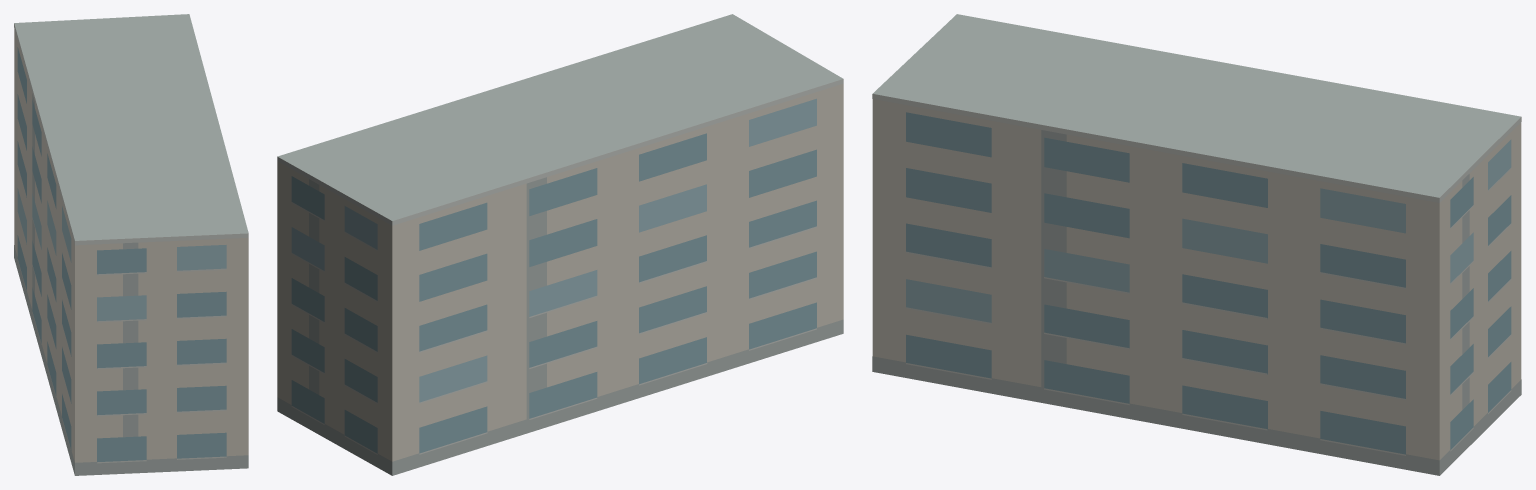
Rendered from survey-upis-32901147.glb.
3 views of the same model, side by side, from view 1: azimuth 30°, elevation 25°; view 2: azimuth 150°, elevation 25°; view 3: azimuth 270°, elevation 25° (orthographic). The views are drawn at different scales.
Visible parts, largest first — view 1: survey-upis-32901147.tmp; view 2: survey-upis-32901147.tmp; view 3: survey-upis-32901147.tmp.
Boxes of the visible parts, x1,y1,x2,y2 form: survey-upis-32901147.tmp: [14, 14, 248, 475]; survey-upis-32901147.tmp: [277, 14, 843, 475]; survey-upis-32901147.tmp: [872, 14, 1521, 475].
Size of the model in its own units: 18.73 by 13.2 by 27.93.
